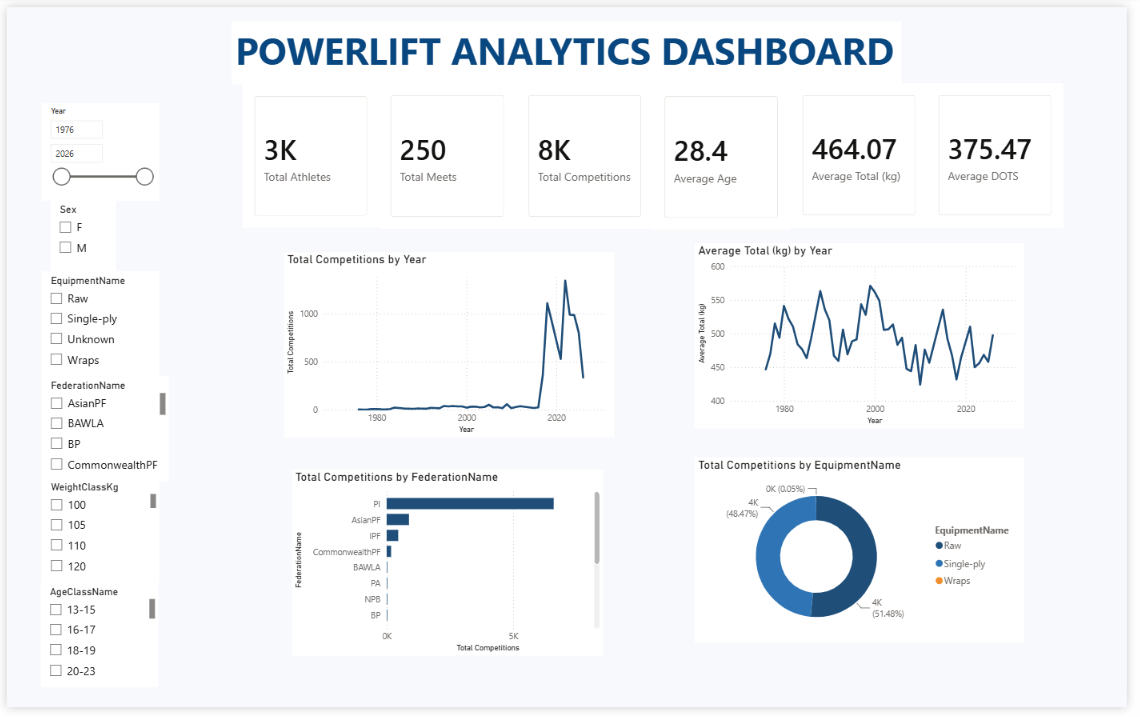

The dashboard page shown, as its layout file describes it:
{"tool":"powerbi","page":{"name":"Executive Dashboard","canvas":[1600,1000],"ordinal":0},"visuals":[{"type":"cardVisual","fields":{"Data":["Measure Table.Total Athletes"]},"box":[336.7,110,195,205],"z":0},{"type":"lineChart","fields":{"Category":["dim_date.Year"],"Y":["Measure Table.Total Competitions"]},"box":[395,350,471.7,265],"z":1000},{"type":"cardVisual","fields":{"Data":["Measure Table.Average Age"]},"box":[923.3,110,196.7,208.3],"z":2000},{"type":"cardVisual","fields":{"Data":["Measure Table.Total Competitions"]},"box":[728.3,108.3,195,208.3],"z":3000},{"type":"cardVisual","fields":{"Data":["Measure Table.Average Total"]},"box":[1120,108.3,195,206.7],"z":4000},{"type":"cardVisual","fields":{"Data":["Measure Table.Average DOTS"]},"box":[1315,108.3,195,206.7],"z":5000},{"type":"cardVisual","fields":{"Data":["Measure Table.Total Meets"]},"box":[531.7,108.3,196.7,208.3],"z":6000},{"type":"lineChart","fields":{"Y":["Measure Table.Average Total"],"Category":["dim_date.Year"]},"box":[983.3,336.7,470,265],"z":7000},{"type":"clusteredBarChart","fields":{"Category":["dim_federation.FederationName"],"Y":["Measure Table.Total Competitions"]},"box":[406.7,660,445,266.7],"z":8000},{"type":"donutChart","fields":{"Category":["dim_equipment.EquipmentName"],"Y":["Measure Table.Total Competitions"]},"box":[983.3,643.3,470,265],"z":9000},{"type":"slicer","fields":{"Values":["dim_date.Year"]},"box":[50,136.7,168.3,138.3],"z":10000},{"type":"slicer","fields":{"Values":["dim_athlete.Sex"]},"box":[63.3,275,93.3,101.7],"z":11000},{"type":"slicer","fields":{"Values":["dim_equipment.EquipmentName"]},"box":[50,376.7,168.3,150],"z":12000},{"type":"slicer","fields":{"Values":["dim_federation.FederationName"]},"box":[50,526.7,181.7,150],"z":13000},{"type":"slicer","fields":{"Values":["dim_weight_class.WeightClassKg"]},"box":[50,671.7,168.3,150],"z":14000},{"type":"slicer","fields":{"Values":["dim_age_class.AgeClassName"]},"box":[48.3,821.7,168.3,150],"z":15000},{"type":"textbox","box":[321.7,20,956.7,90],"z":16000}]}

Visuals, with their boxes in screenshot pixels (x1, y1, x2, y2), scaled from the page's 1600x1000 canvas onto the 1140x717 screenshot:
cardVisual - Measure Table.Total Athletes: BBox(240, 79, 379, 226)
lineChart - dim_date.Year x Measure Table.Total Competitions: BBox(281, 251, 618, 441)
cardVisual - Measure Table.Average Age: BBox(658, 79, 798, 228)
cardVisual - Measure Table.Total Competitions: BBox(519, 78, 658, 227)
cardVisual - Measure Table.Average Total: BBox(798, 78, 937, 226)
cardVisual - Measure Table.Average DOTS: BBox(937, 78, 1076, 226)
cardVisual - Measure Table.Total Meets: BBox(379, 78, 519, 227)
lineChart - Measure Table.Average Total x dim_date.Year: BBox(701, 241, 1035, 431)
clusteredBarChart - dim_federation.FederationName x Measure Table.Total Competitions: BBox(290, 473, 607, 664)
donutChart - dim_equipment.EquipmentName x Measure Table.Total Competitions: BBox(701, 461, 1035, 651)
slicer - dim_date.Year: BBox(36, 98, 156, 197)
slicer - dim_athlete.Sex: BBox(45, 197, 112, 270)
slicer - dim_equipment.EquipmentName: BBox(36, 270, 156, 378)
slicer - dim_federation.FederationName: BBox(36, 378, 165, 485)
slicer - dim_weight_class.WeightClassKg: BBox(36, 482, 156, 589)
slicer - dim_age_class.AgeClassName: BBox(34, 589, 154, 697)
textbox: BBox(229, 14, 911, 79)
